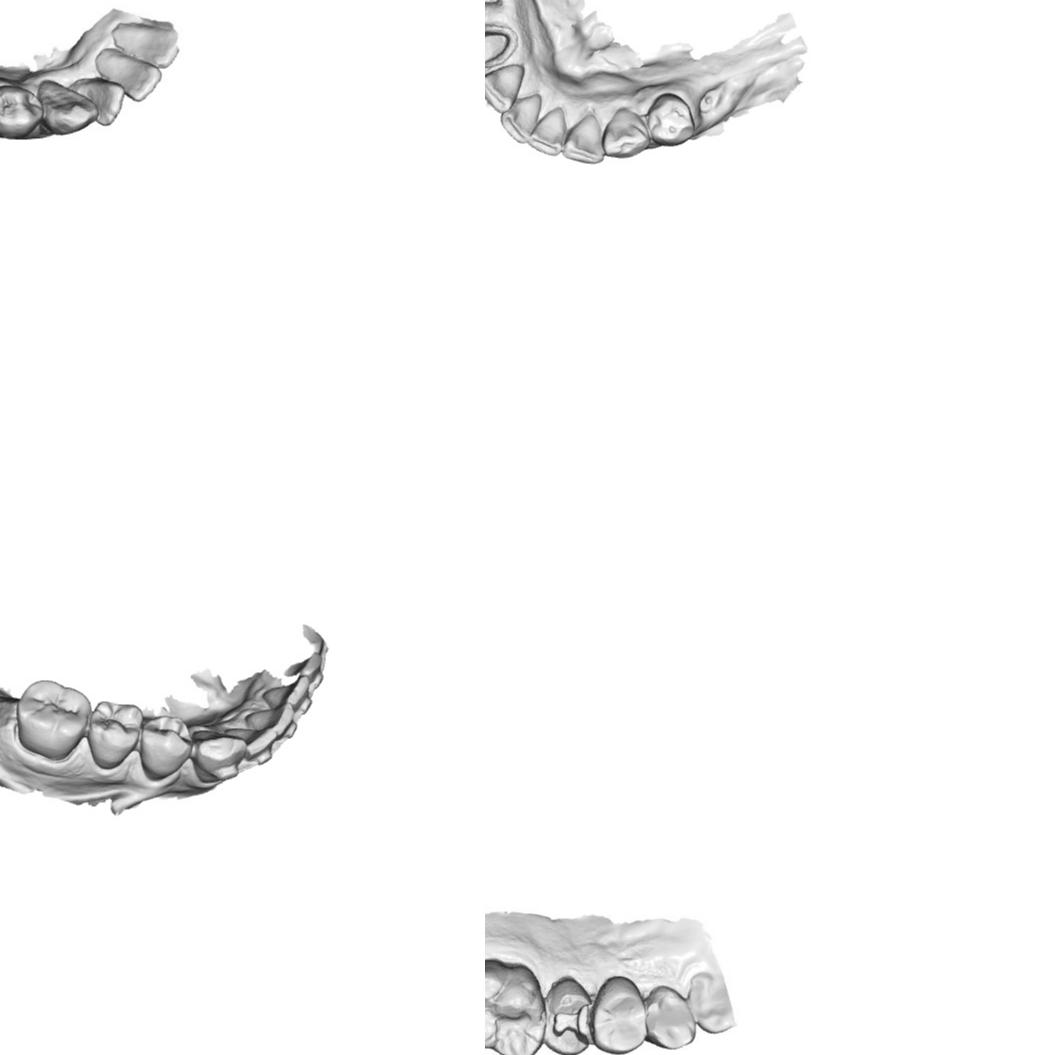canine: (37, 77, 98, 137), (643, 988, 698, 1051), (190, 726, 247, 786), (600, 106, 650, 160)
crown: (485, 23, 518, 66)
incisor: (95, 50, 162, 101), (111, 21, 181, 69), (689, 972, 735, 1032), (78, 73, 126, 126), (561, 113, 604, 166), (500, 92, 543, 145), (526, 105, 566, 158), (485, 62, 525, 114), (242, 702, 296, 738), (260, 674, 313, 710), (224, 726, 280, 760), (281, 653, 323, 681)
inlay: (550, 1000, 592, 1047)
molar: (13, 677, 93, 763), (485, 956, 547, 1055)
premolar: (86, 698, 144, 771), (593, 978, 647, 1055), (138, 713, 193, 780), (647, 81, 693, 148), (0, 82, 45, 138)
